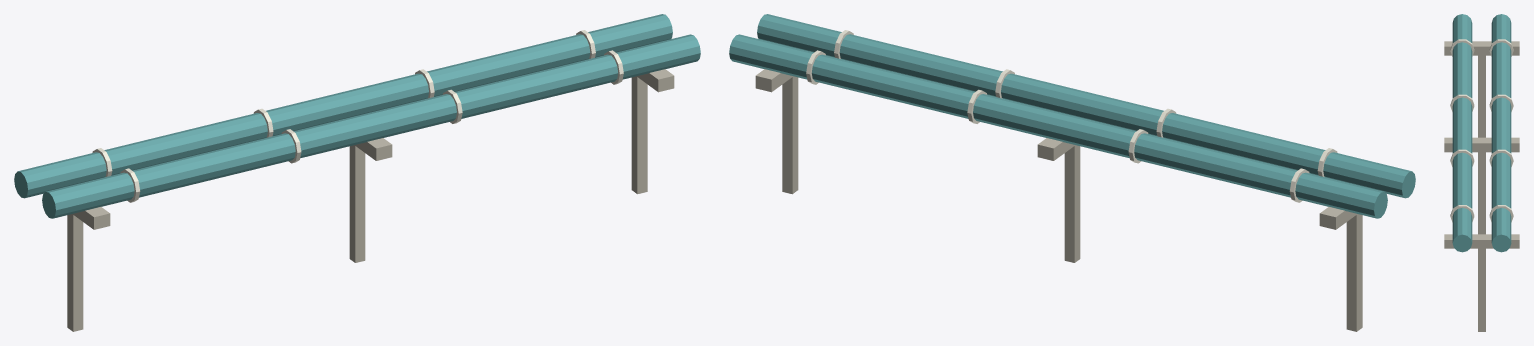
3 views of the same model, side by side, from view 1: azimuth 30°, elevation 25°; view 2: azimuth 150°, elevation 25°; view 3: azimuth 270°, elevation 25° (orthographic). The views are drawn at different scales.
Size of the model in its own units: 16 by 3.75 by 2.3.
